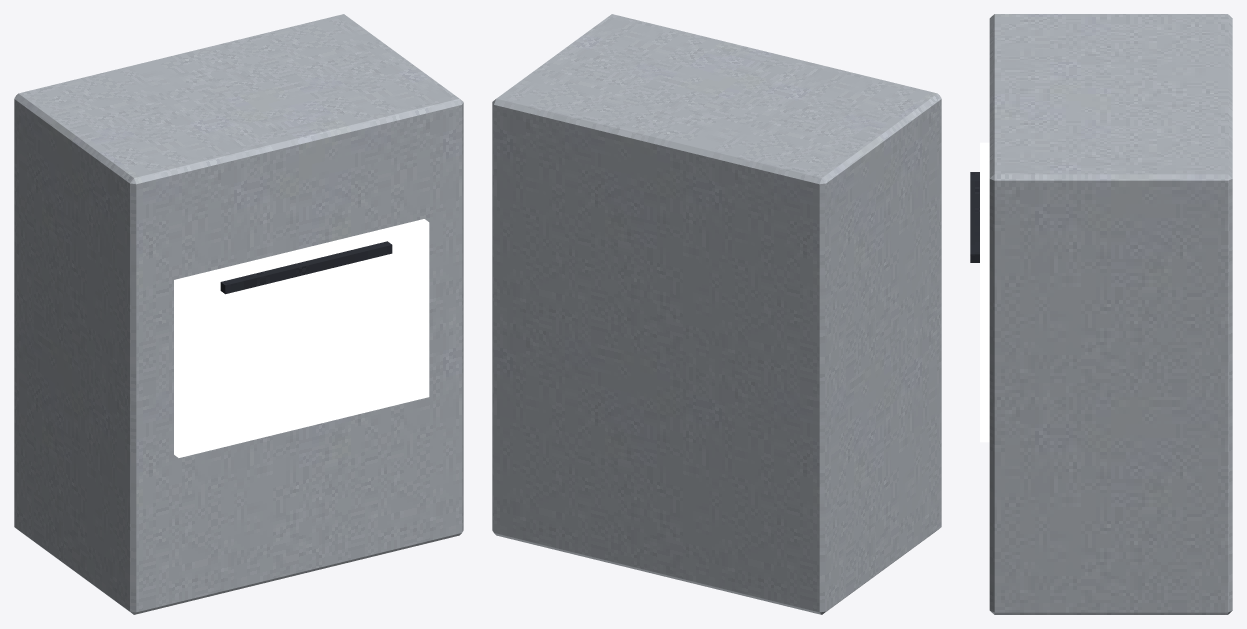
3 views of the same model, side by side, from view 1: azimuth 30°, elevation 25°; view 2: azimuth 150°, elevation 25°; view 3: azimuth 270°, elevation 25° (orthographic).
Parts seen in each view (by area): view 1: Decor_bakery_oven; view 2: Decor_bakery_oven; view 3: Decor_bakery_oven.
Boxes of the visible parts, x1,y1,x2,y2 form: Decor_bakery_oven: (14,14,463,614); Decor_bakery_oven: (492,14,941,614); Decor_bakery_oven: (970,14,1232,614).
Size of the model in its own units: 1.6 by 2 by 1.08.
Materials: 3 (3 with a texture image).
